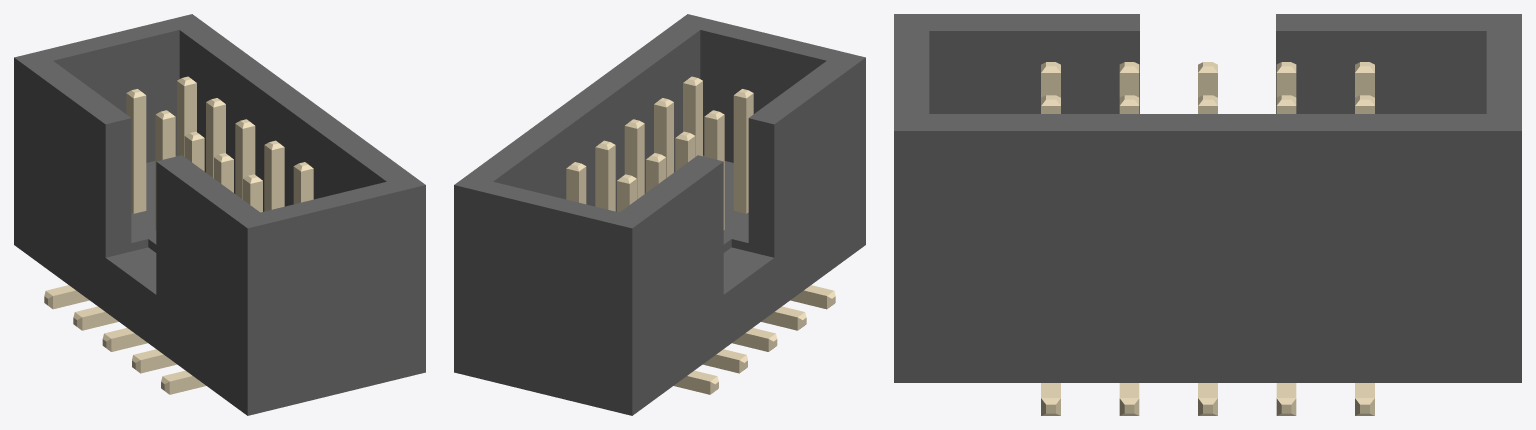
File: kc-idc-header_2x05_p2.54mm_vertical_smd.glb
3 views of the same model, side by side, from view 1: azimuth 30°, elevation 25°; view 2: azimuth 150°, elevation 25°; view 3: azimuth 270°, elevation 25° (orthographic). The views are drawn at different scales.
Visible parts, largest first — view 1: 0.16666666666666666_0.16666666666666666_0.16666666666666666_, 0.8333333333333334_0.75_0.5_0.9; view 2: 0.16666666666666666_0.16666666666666666_0.16666666666666666_, 0.8333333333333334_0.75_0.5_0.9; view 3: 0.16666666666666666_0.16666666666666666_0.16666666666666666_, 0.8333333333333334_0.75_0.5_0.9.
Part boxes in pixels (x1,y1,x2,y2): 0.16666666666666666_0.16666666666666666_0.16666666666666666_: (14, 14, 425, 415); 0.8333333333333334_0.75_0.5_0.9: (44, 76, 313, 394); 0.16666666666666666_0.16666666666666666_0.16666666666666666_: (454, 14, 865, 415); 0.8333333333333334_0.75_0.5_0.9: (566, 76, 835, 394); 0.16666666666666666_0.16666666666666666_0.16666666666666666_: (894, 14, 1521, 382); 0.8333333333333334_0.75_0.5_0.9: (1041, 62, 1374, 415).
Bounding box in the file's own units: 1.16 × 0.964 × 2.03.
